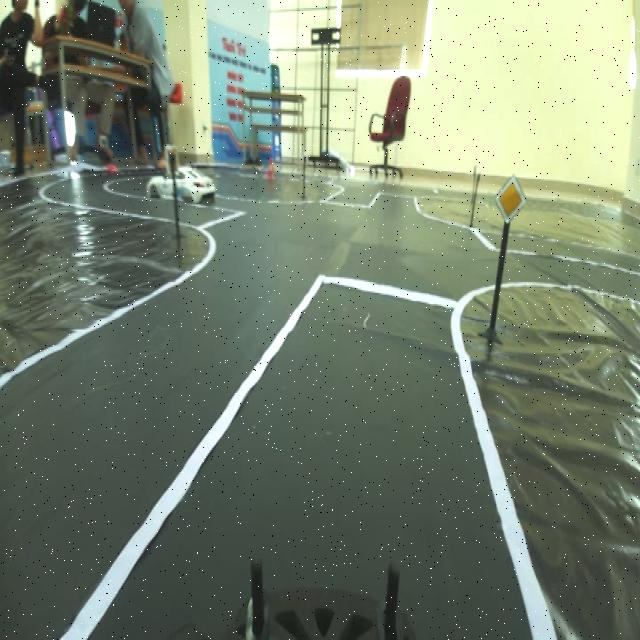priority: (487, 174, 533, 228)
